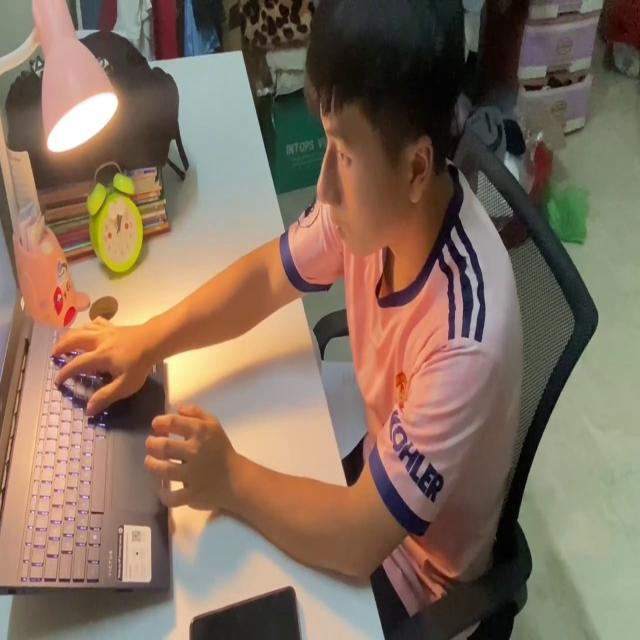laptop: (0, 200, 175, 600)
phone: (187, 583, 304, 640)
student: (43, 0, 523, 640)
